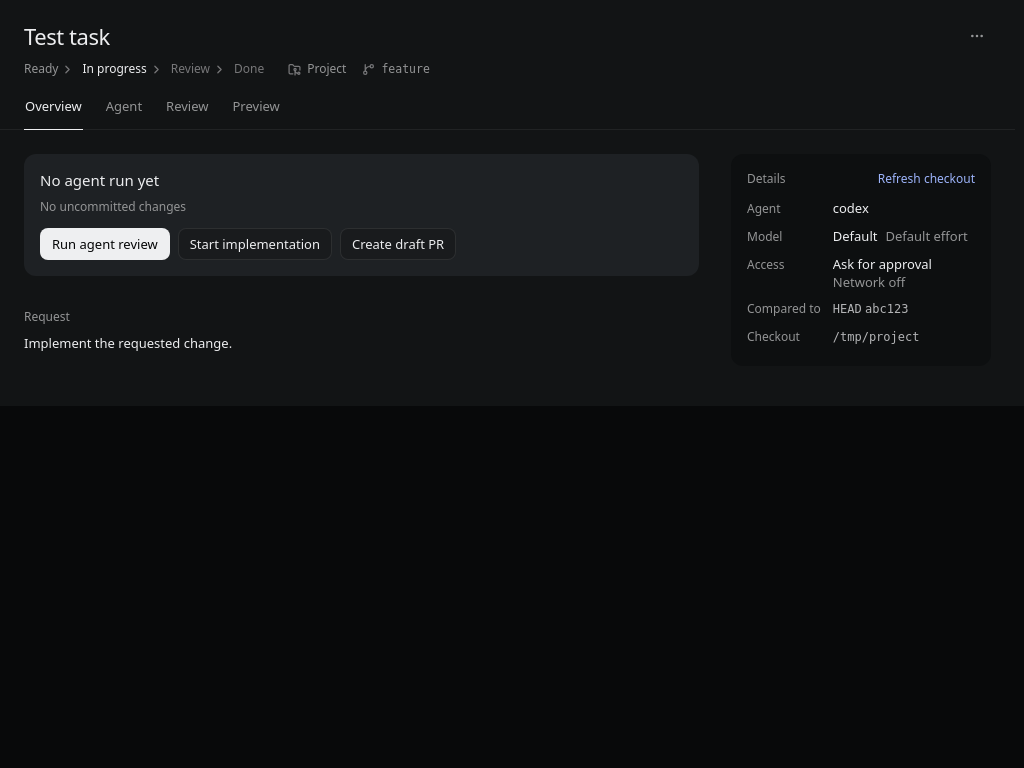
Test: imported task actions › requires a new PR target independently of a clean HEAD comparison and keeps failed input for retry
Click the button "Create draft PR": coordinates (398, 244) 340,228 -> 456,260
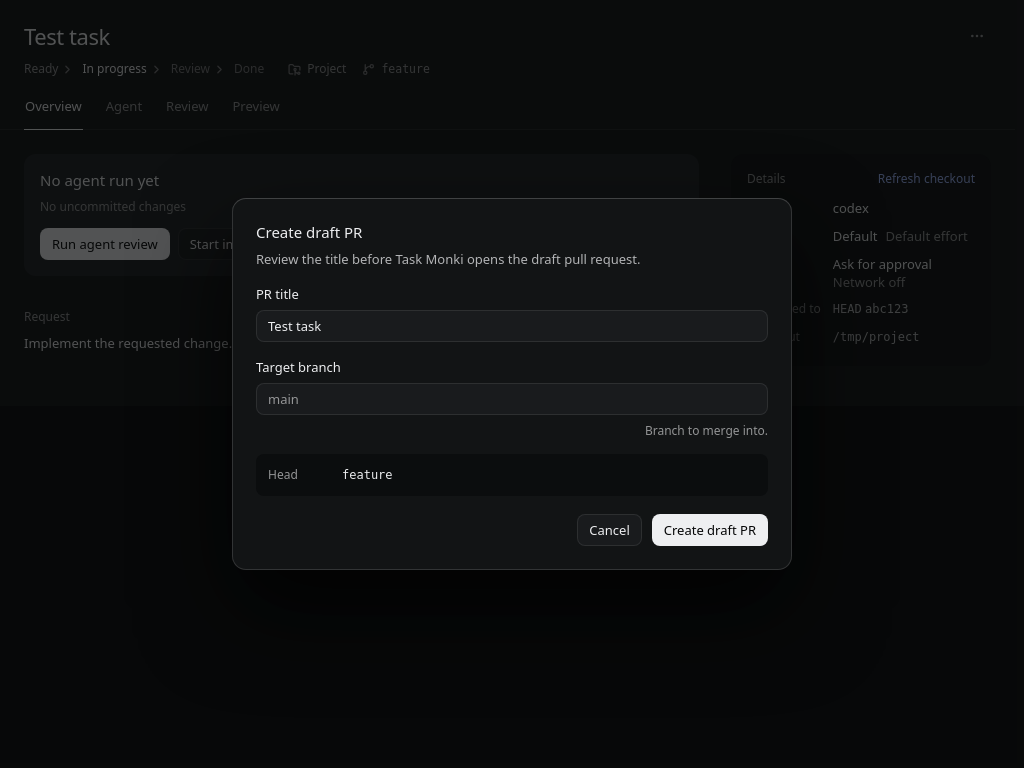
Result: the field labelled "Target branch" is empty
Result: the button "Create draft PR" is disabled at 652,514 -> 768,546
In the field labelled "Target branch": coordinates (512, 399) 256,383 -> 768,415, type "missing"
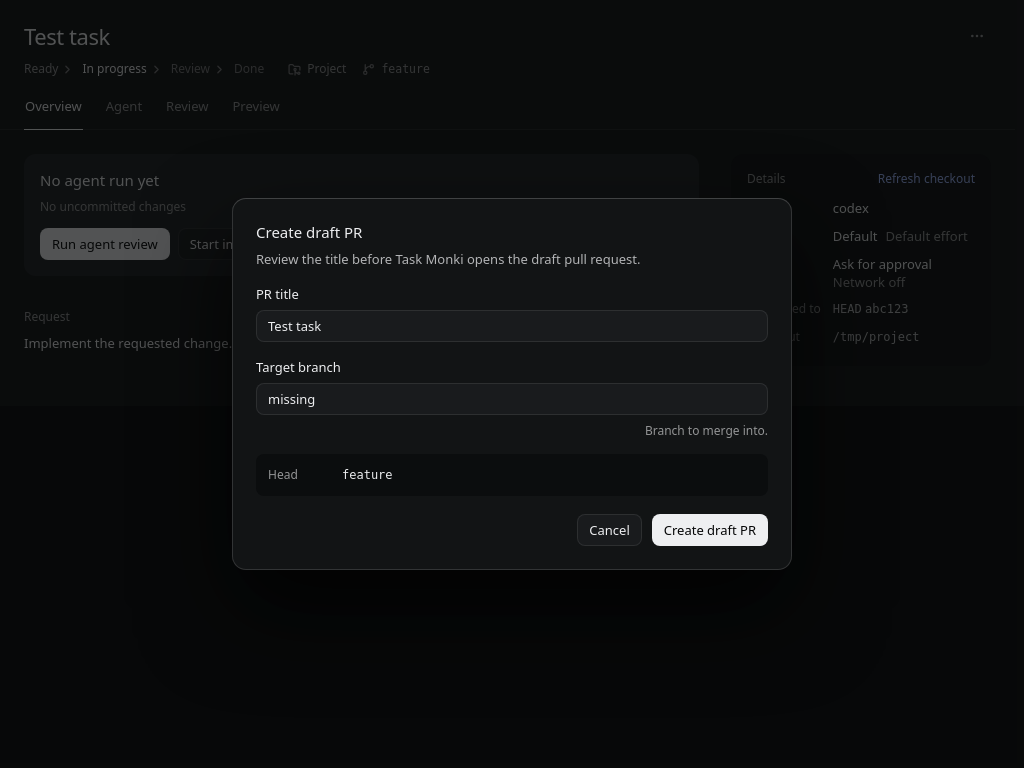
Click the button "Create draft PR": coordinates (710, 530) 652,514 -> 768,546
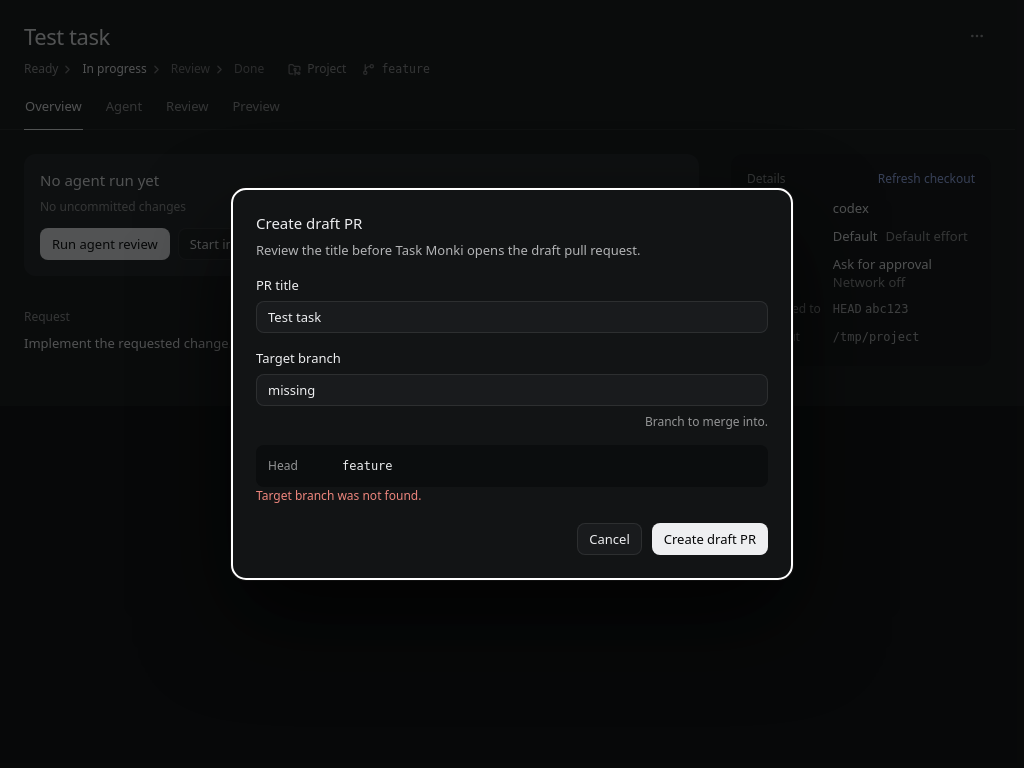
Result: the message reads "Target branch was not found." at 256,487 -> 421,504
Replace the text in the field labelled "Target branch" with "release/next": coordinates (512, 390) 256,374 -> 768,406
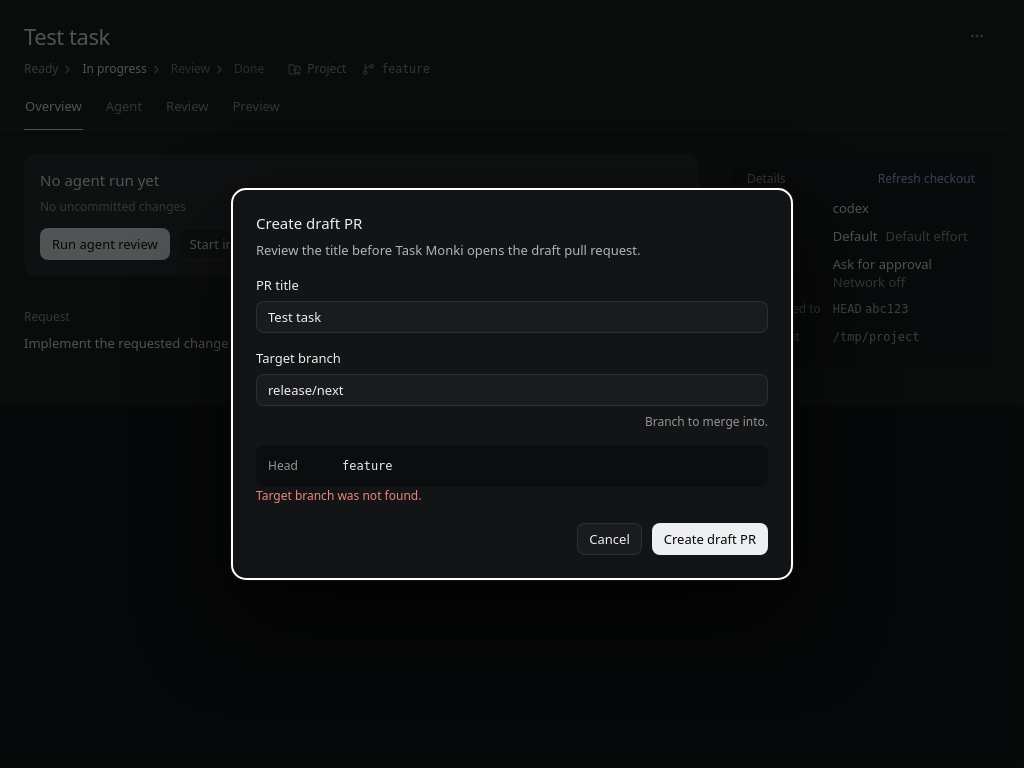
Click the button "Create draft PR": coordinates (710, 539) 652,523 -> 768,555
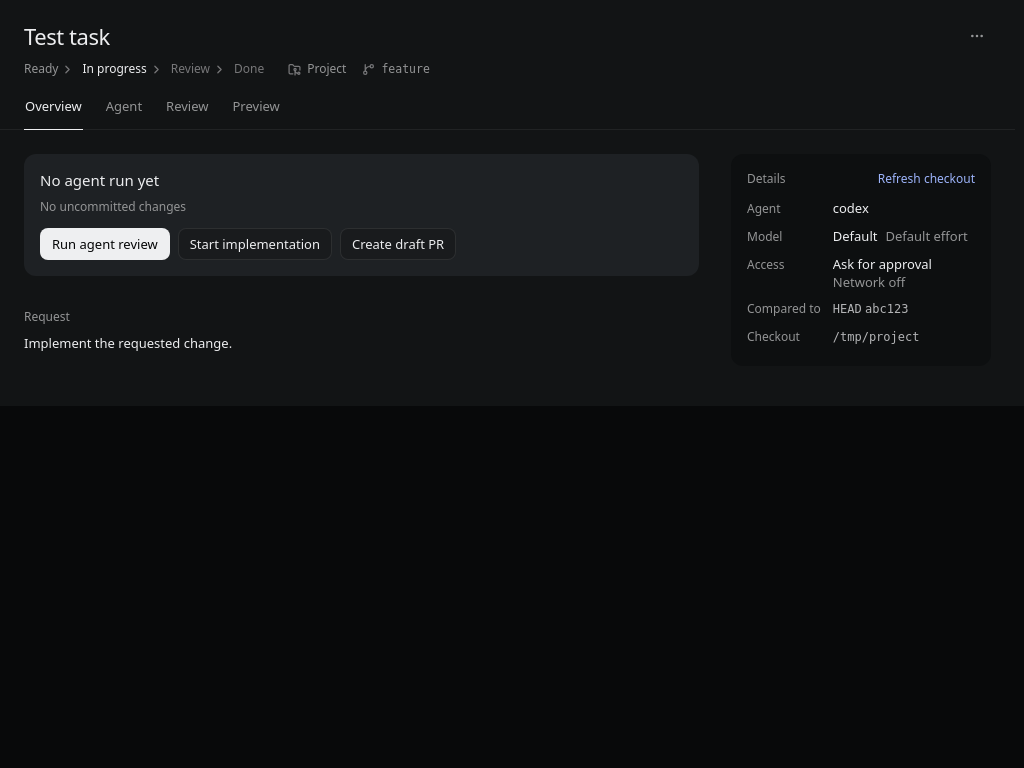
Result: the dialog is gone
